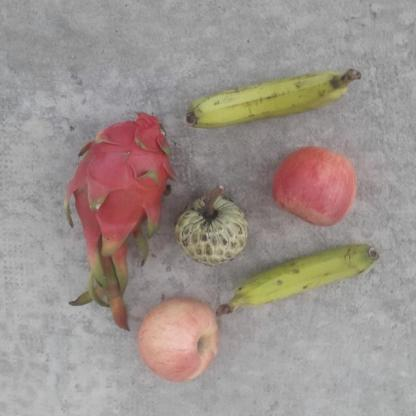annona: (172, 186, 250, 267)
apple: (265, 144, 360, 229), (138, 295, 221, 384)
banana: (184, 66, 360, 130), (218, 247, 378, 316)
pitaya: (65, 108, 175, 272)
